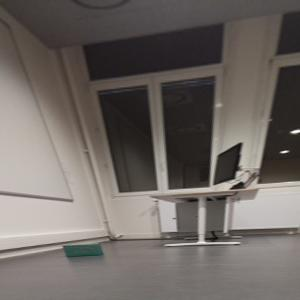small: (62, 241, 106, 259)
